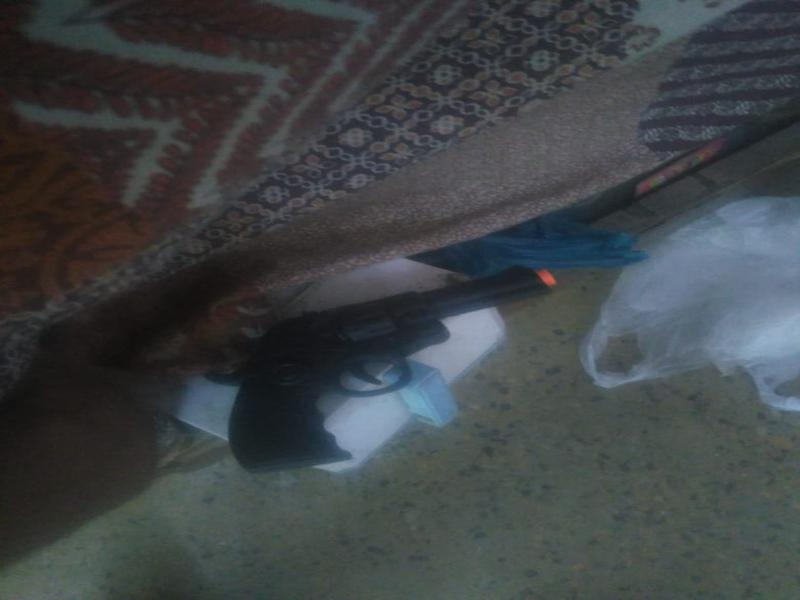gun: (183, 260, 605, 491)
